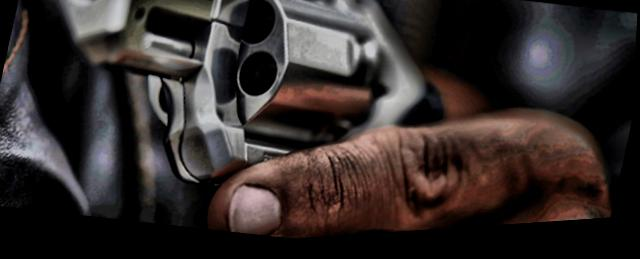pistol: (6, 0, 482, 258)
